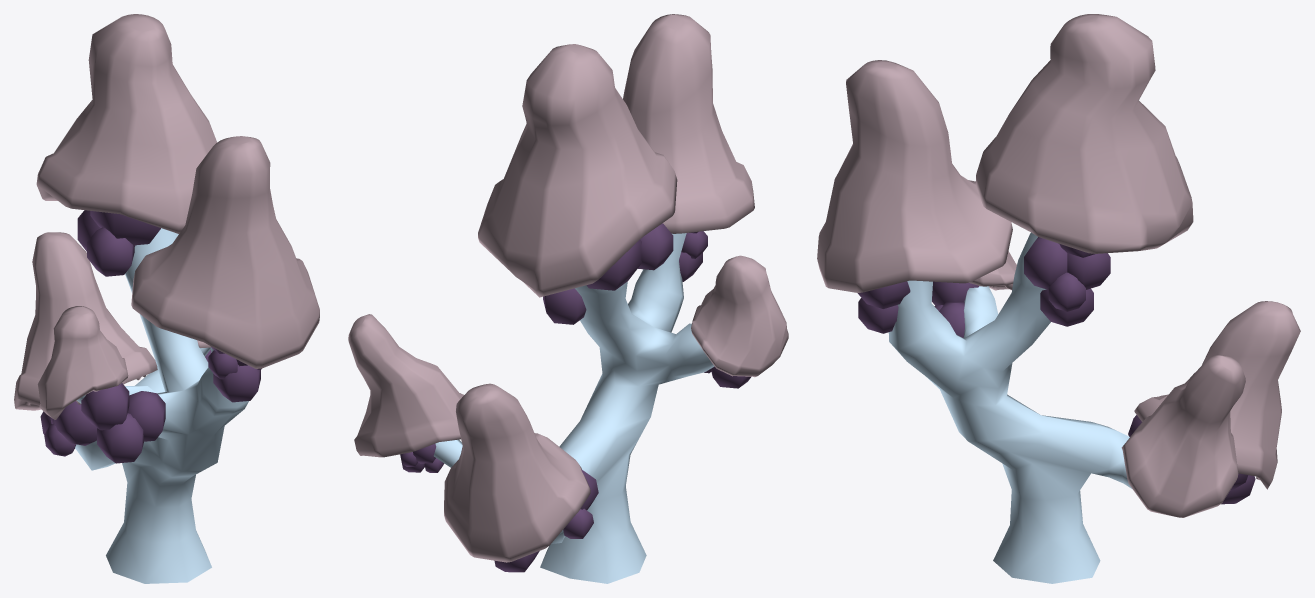
Rendered from AlexAvant_Mushroom1.fbx.
3 views of the same model, side by side, from view 1: azimuth 30°, elevation 25°; view 2: azimuth 150°, elevation 25°; view 3: azimuth 270°, elevation 25° (orthographic). The views are drawn at different scales.
Parts seen in each view (by area): view 1: polySurface17; view 2: polySurface17; view 3: polySurface17.
Part boxes in pixels (left/top/right/bottom): polySurface17: left=14, top=14, right=319, bottom=583; polySurface17: left=348, top=14, right=788, bottom=583; polySurface17: left=817, top=14, right=1300, bottom=583.
Size of the model in its own units: 8.8 by 14.04 by 11.33.
